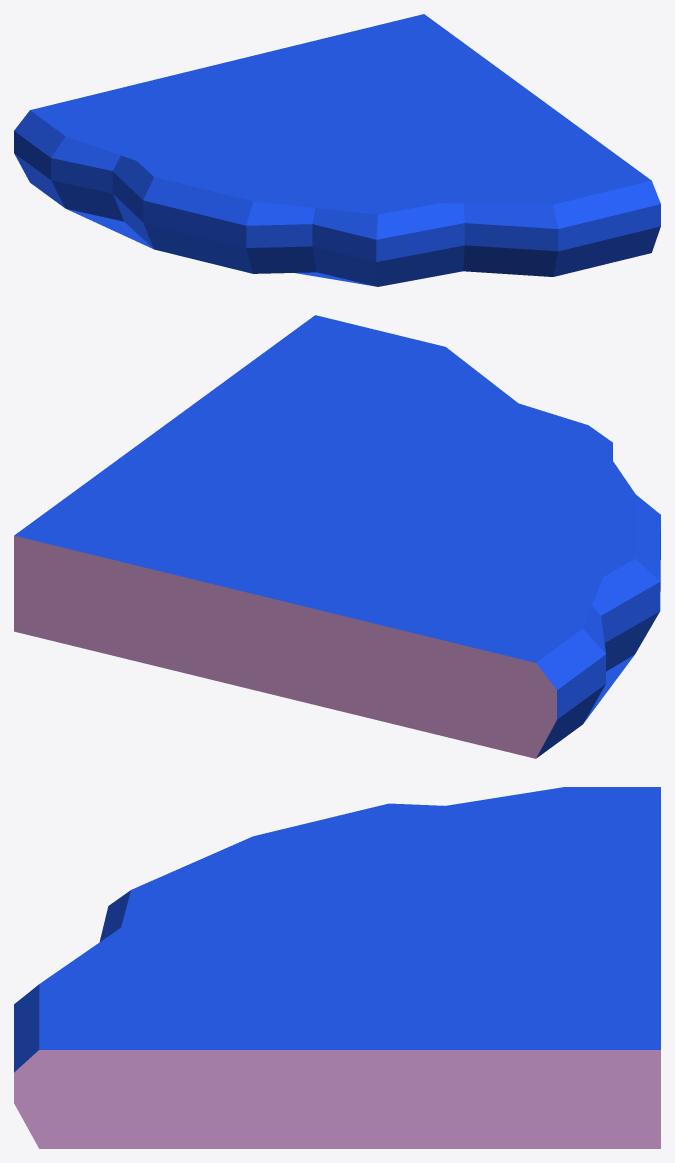
The model's file is Iceberg_Curve_Outer_3x3_1.glb.
3 renders of one model, top to bottom at view 1: azimuth 30°, elevation 25°; view 2: azimuth 150°, elevation 25°; view 3: azimuth 270°, elevation 25°, orthographic. The views are drawn at different scales.
Visible parts, largest first — view 1: Iceberg_Curve_Outer_3x3_1; view 2: Iceberg_Curve_Outer_3x3_1; view 3: Iceberg_Curve_Outer_3x3_1.
Boxes of the visible parts, box(x1,y1,x2,y2) form: Iceberg_Curve_Outer_3x3_1: box(14, 14, 660, 286); Iceberg_Curve_Outer_3x3_1: box(14, 315, 660, 758); Iceberg_Curve_Outer_3x3_1: box(14, 787, 660, 1148).
Size of the model in its own units: 241 by 40.63 by 241.
